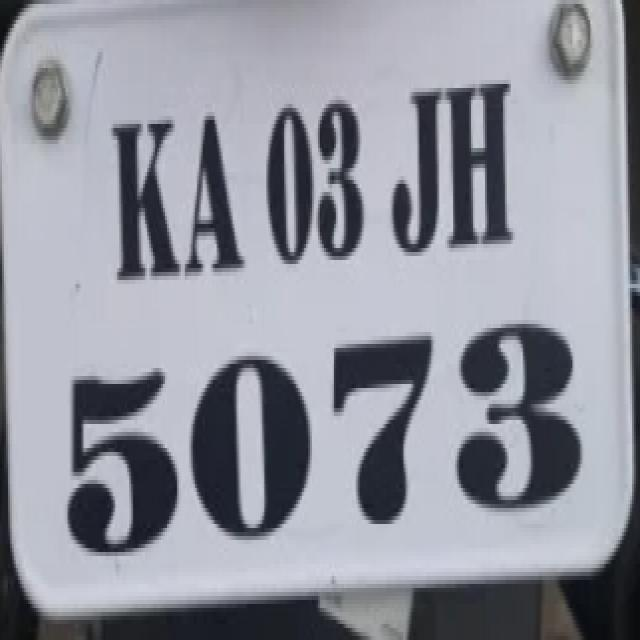0: (188, 322, 316, 561), (259, 89, 317, 276)
3: (450, 307, 591, 528), (312, 62, 375, 275)
5: (59, 344, 184, 591)
7: (324, 315, 439, 538)
A: (185, 87, 252, 301)
H: (448, 61, 521, 262)
J: (383, 72, 443, 272)
K: (103, 102, 187, 298)
